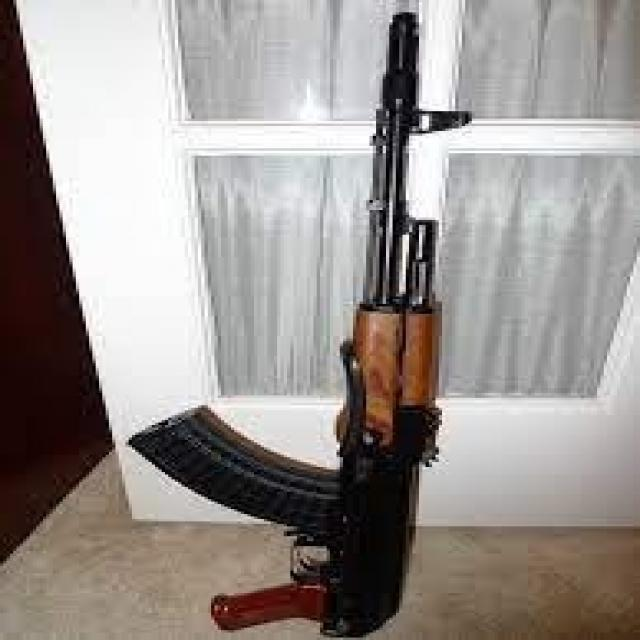gun: (127, 7, 469, 637)
